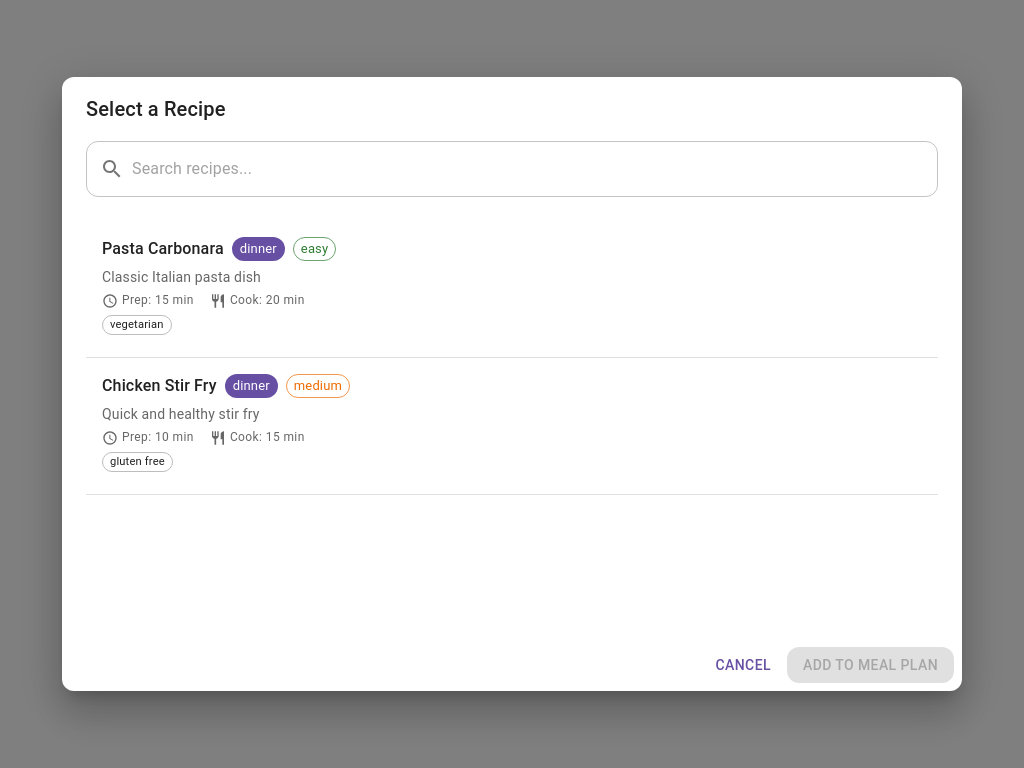
Test: RecipeSelectorModal Component › selects a recipe when clicked
This screenshot has width=1024, height=768.
Expected: the text "Pasta Carbonara" is shown, [102,235,224,263]
What coordinates should you click on to do the following:
click the button "Pasta Carbonara"
I would click on:
 (219, 286)
Its box is [102,237,336,335].
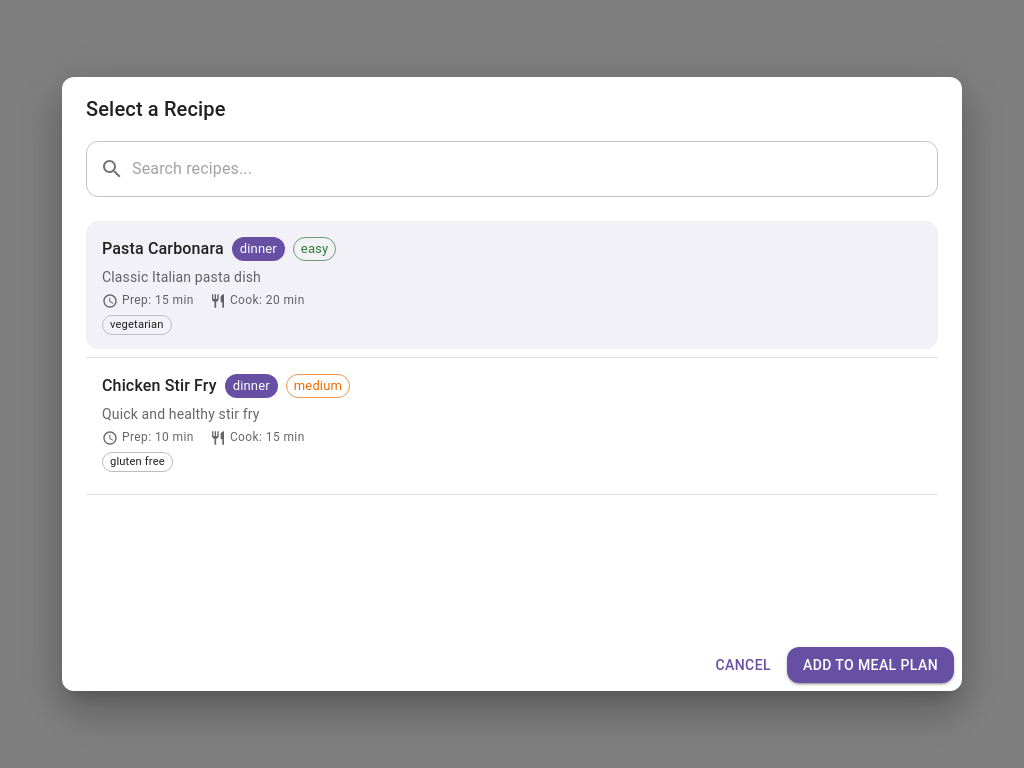
Now the button "Add to Meal Plan" is enabled, box [787,647,954,683]
